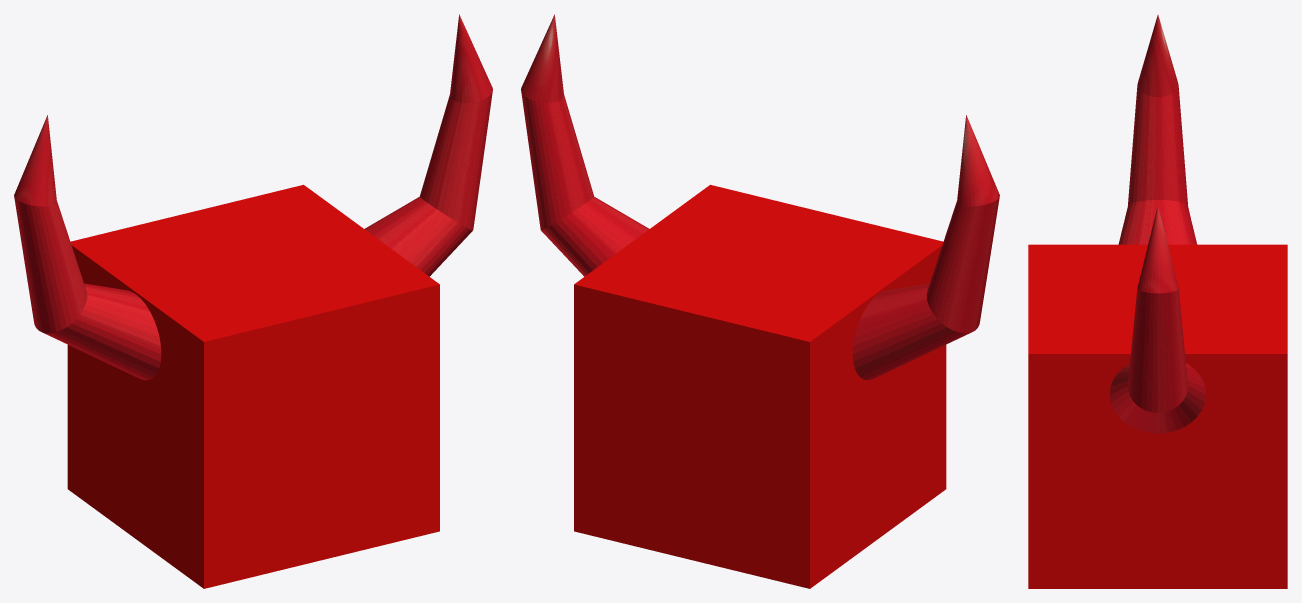
File: Bad_big_box.fbx
The picture shows the model from 3 angles, left to right: view 1: azimuth 30°, elevation 25°; view 2: azimuth 150°, elevation 25°; view 3: azimuth 270°, elevation 25°; orthographic projection. The views are drawn at different scales.
Visible parts, largest first — view 1: Krabička_bad; view 2: Krabička_bad; view 3: Krabička_bad.
Part boxes in pixels (x1,y1,x2,y2): Krabička_bad: (14, 14, 492, 588); Krabička_bad: (521, 14, 999, 588); Krabička_bad: (1028, 15, 1287, 588).
Bounding box in the file's own units: 90.43 × 81.51 × 45.11.
